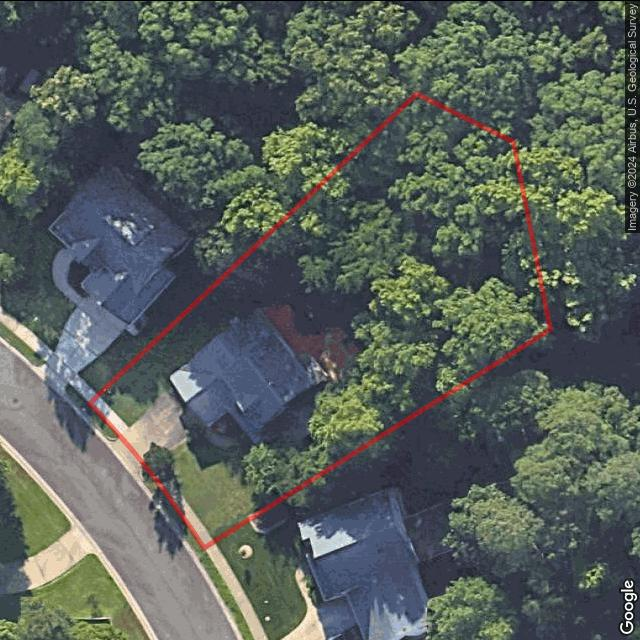Driveway: (120, 386, 204, 468)
Extra-Driveway: (108, 435, 148, 478)
Extra-Lawn: (144, 463, 206, 554), (85, 401, 119, 438)
House: (166, 303, 330, 444)
Lawn: (91, 92, 549, 547)
Other: (281, 91, 551, 416), (261, 294, 365, 379), (212, 409, 243, 435)
Sidewalk: (148, 460, 216, 546), (90, 394, 128, 436), (201, 424, 256, 448)
